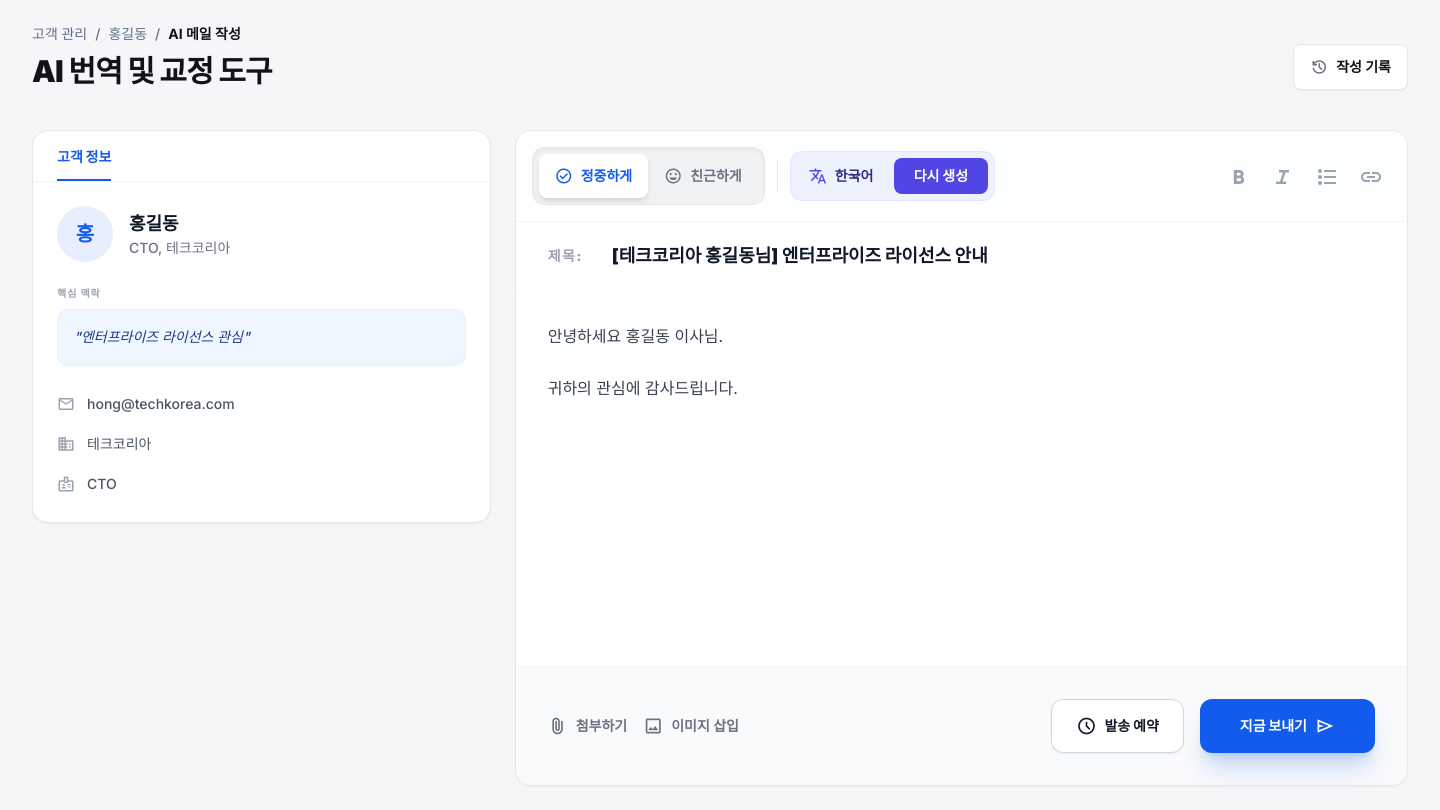
it: EmailComposer › 작성 기록 모달 › 해당 고객의 발송 기록을 필터링하여 표시한다
The width and height of the screenshot is (1440, 810).
Step 1. Click the button "작성 기록" → (1351, 67), box [1293,44,1408,90]
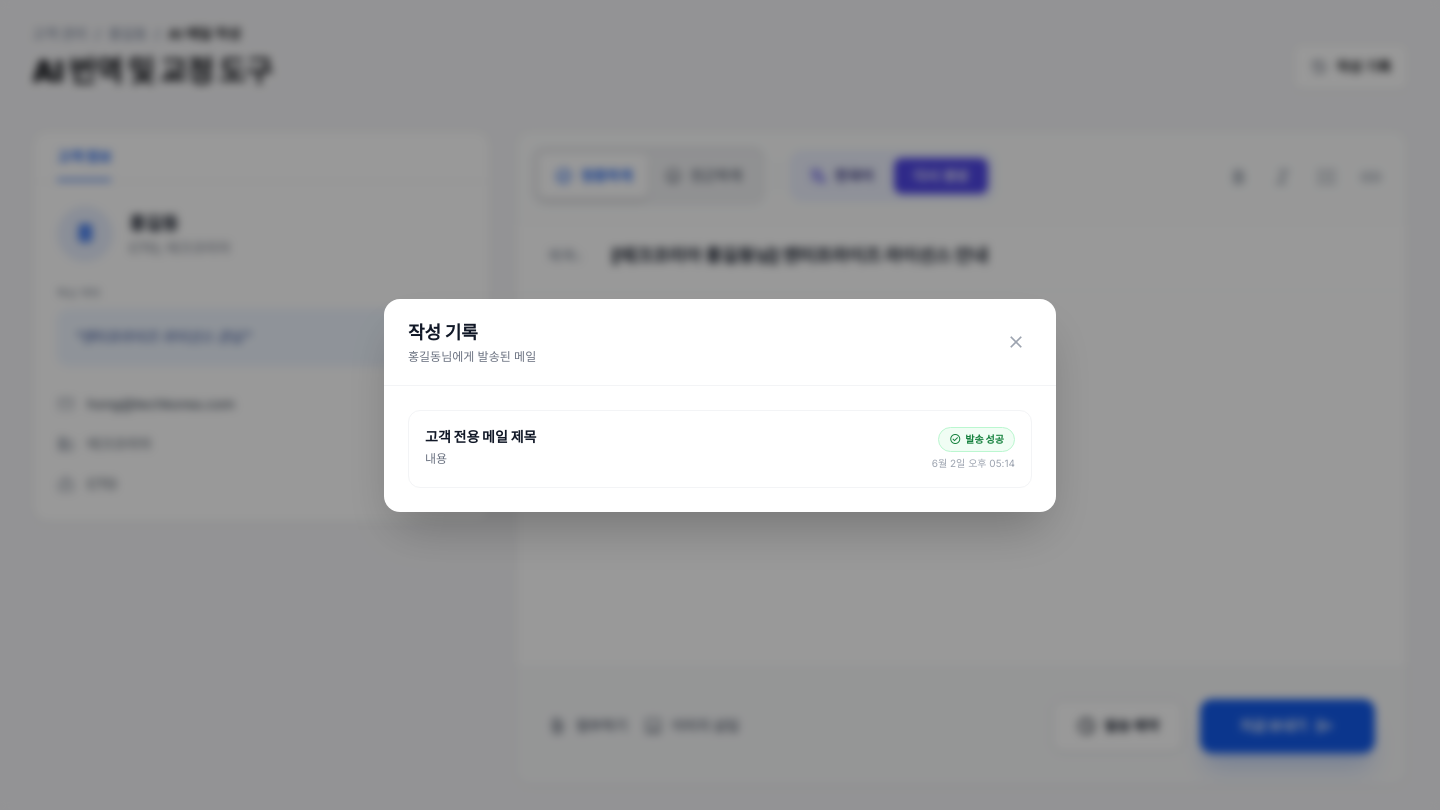
Result: the text "고객 전용 메일 제목" is shown at [425,428,536,444]
